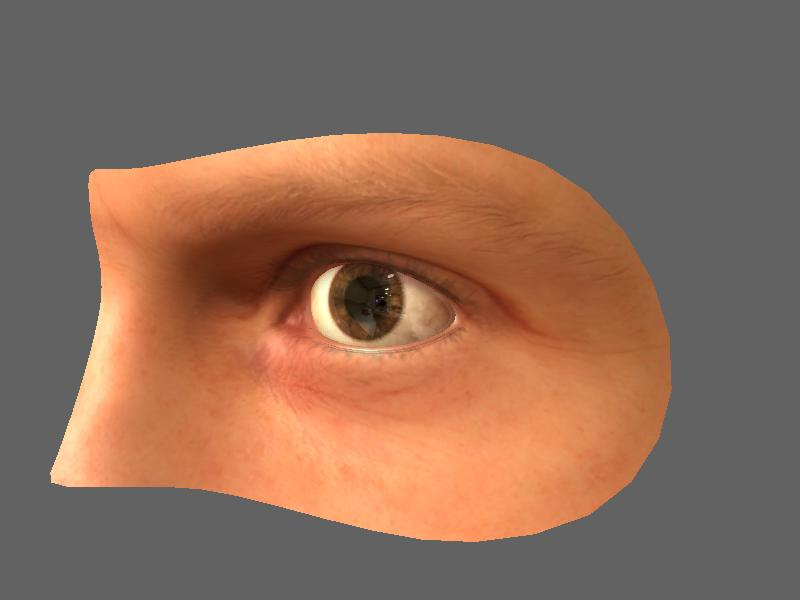iris: (330, 263, 406, 340)
